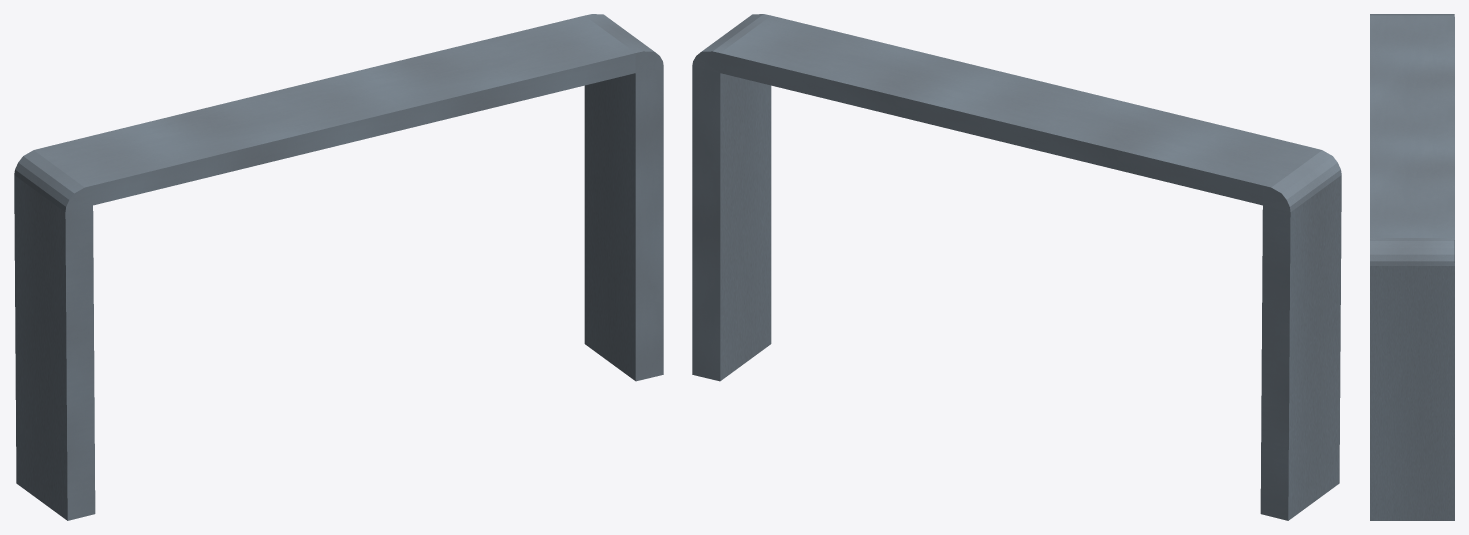
Rendered from GateFrame.gltf.
3 renders of one model, left to right at view 1: azimuth 30°, elevation 25°; view 2: azimuth 150°, elevation 25°; view 3: azimuth 270°, elevation 25°, orthographic. The views are drawn at different scales.
Parts seen in each view (by area): view 1: Frame; view 2: Frame; view 3: Frame.
Part boxes in pixels (x1,y1,x2,y2): Frame: [14, 14, 663, 520]; Frame: [692, 14, 1341, 520]; Frame: [1370, 14, 1454, 520].
Bounding box in the file's own units: 8.12 × 4.27 × 1.2.
1 material, 1 textured.
